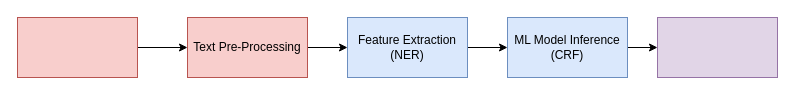
The diagram is 795 pixels wide and 95 high, and some of its shapes have lost their labels. Each missing label, with the centre of its shape:
Input text: the point at 77,47
Output labeled text: the point at 717,47
